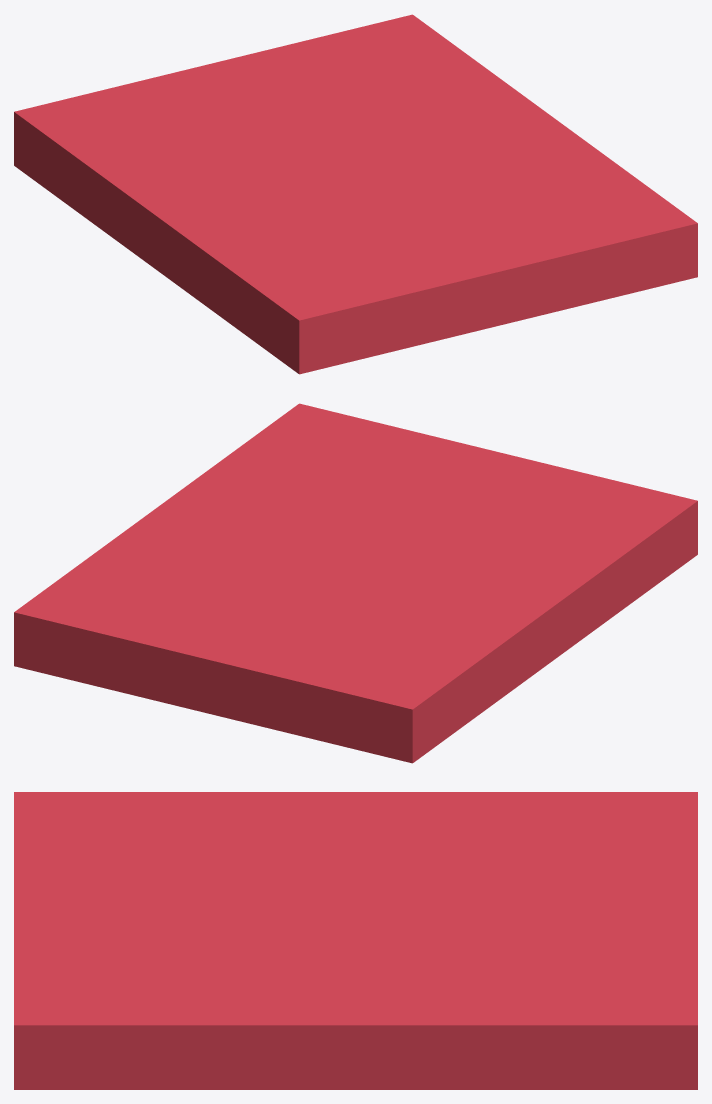
File: BisteccaInt.fbx
3 views of the same model, one above another, from view 1: azimuth 30°, elevation 25°; view 2: azimuth 150°, elevation 25°; view 3: azimuth 270°, elevation 25° (orthographic). The views are drawn at different scales.
Visible parts, largest first — view 1: Bistecca; view 2: Bistecca; view 3: Bistecca.
Part boxes in pixels (x1,y1,x2,y2): Bistecca: (14, 14, 697, 374); Bistecca: (14, 403, 697, 763); Bistecca: (14, 792, 697, 1089).
Bounding box in the file's own units: 725 × 93.62 × 898.
